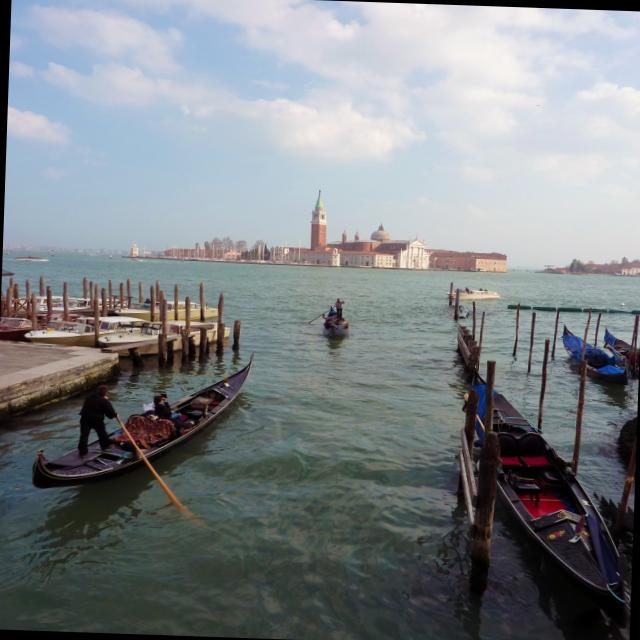boat: (438, 351, 639, 640), (12, 338, 260, 502)
